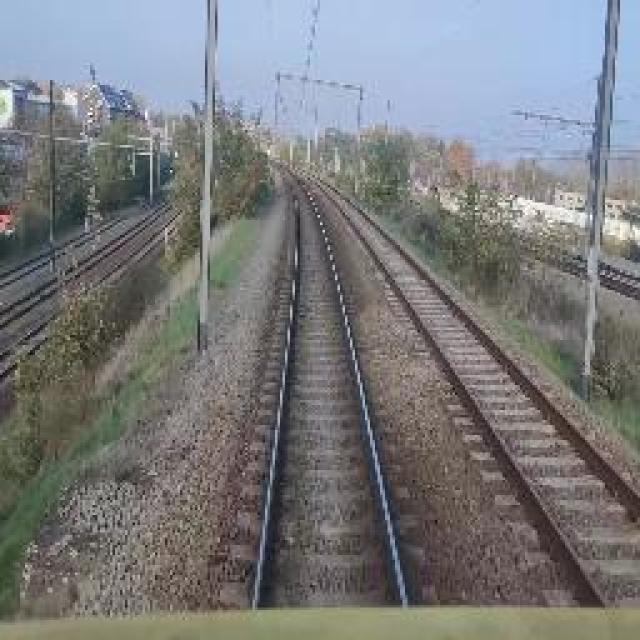rail: (312, 180, 640, 608), (210, 157, 451, 612)
